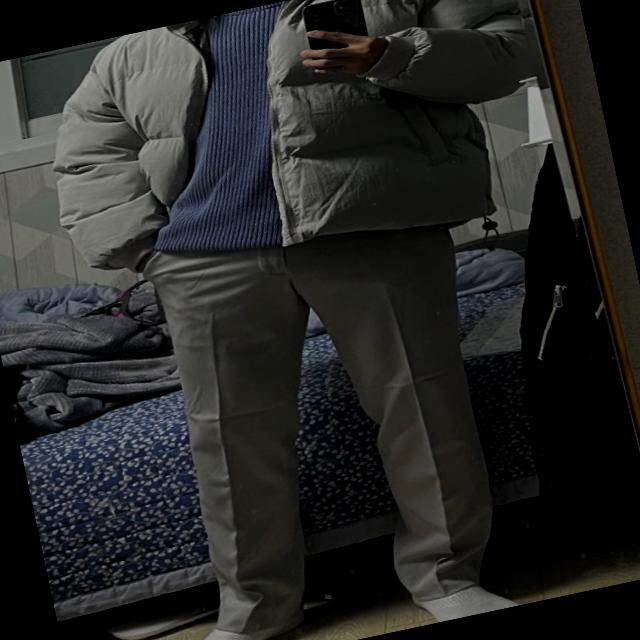padding: (19, 0, 559, 308)
slacks: (127, 187, 529, 640)
sweater: (103, 0, 349, 267)
